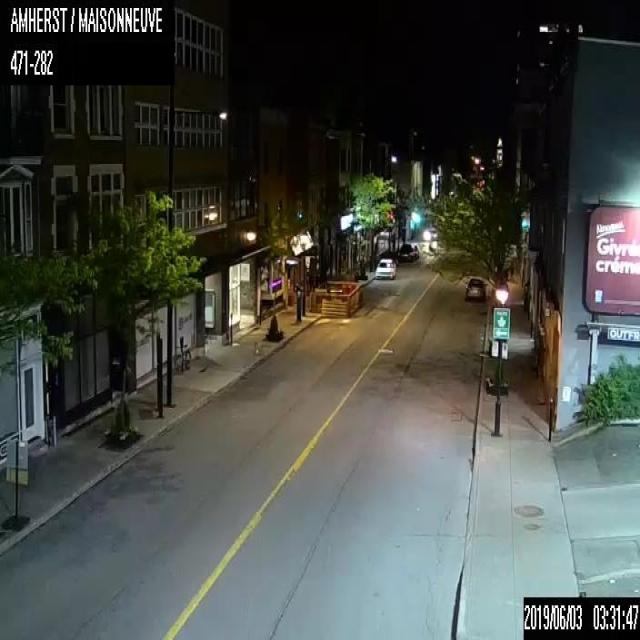vehicle: (464, 278, 487, 302), (374, 257, 396, 279), (397, 242, 418, 260), (422, 224, 435, 239)
